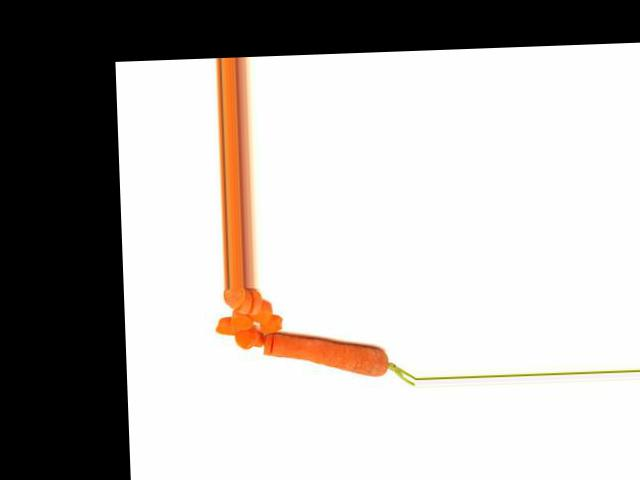carrot: (249, 322, 393, 383)
